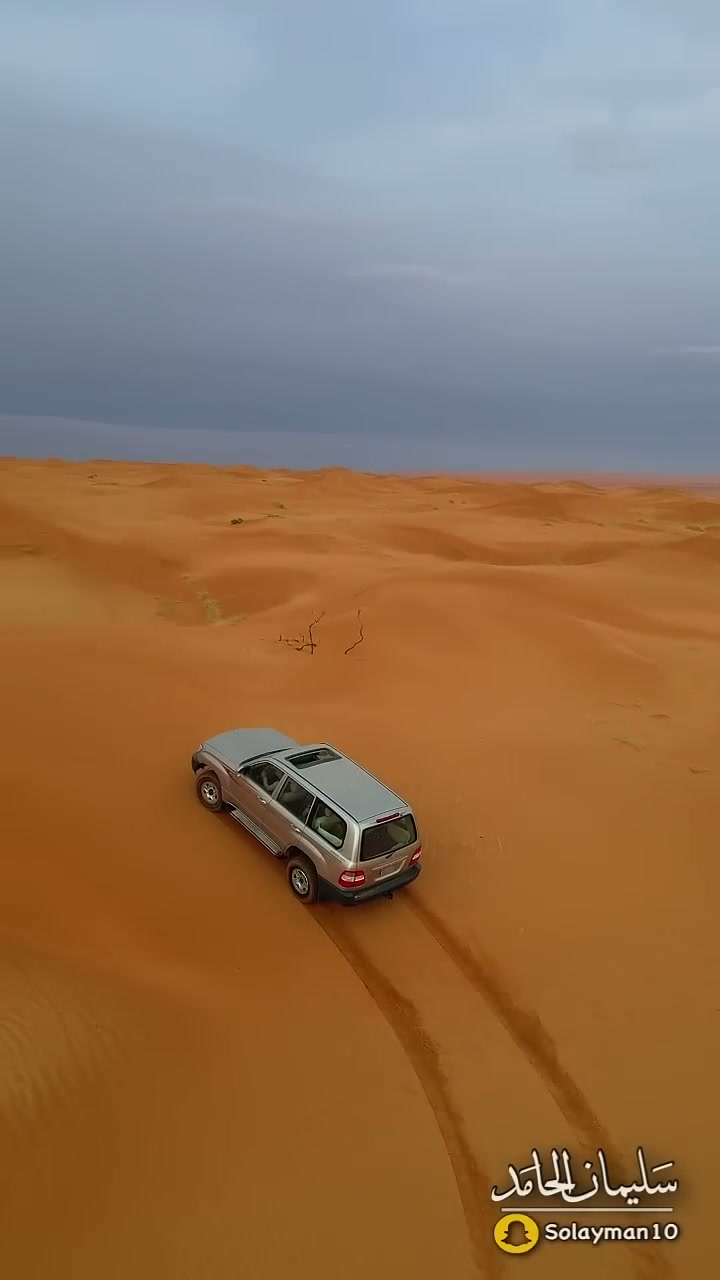vehicle_track: (403, 890, 631, 1181), (317, 917, 500, 1279)
